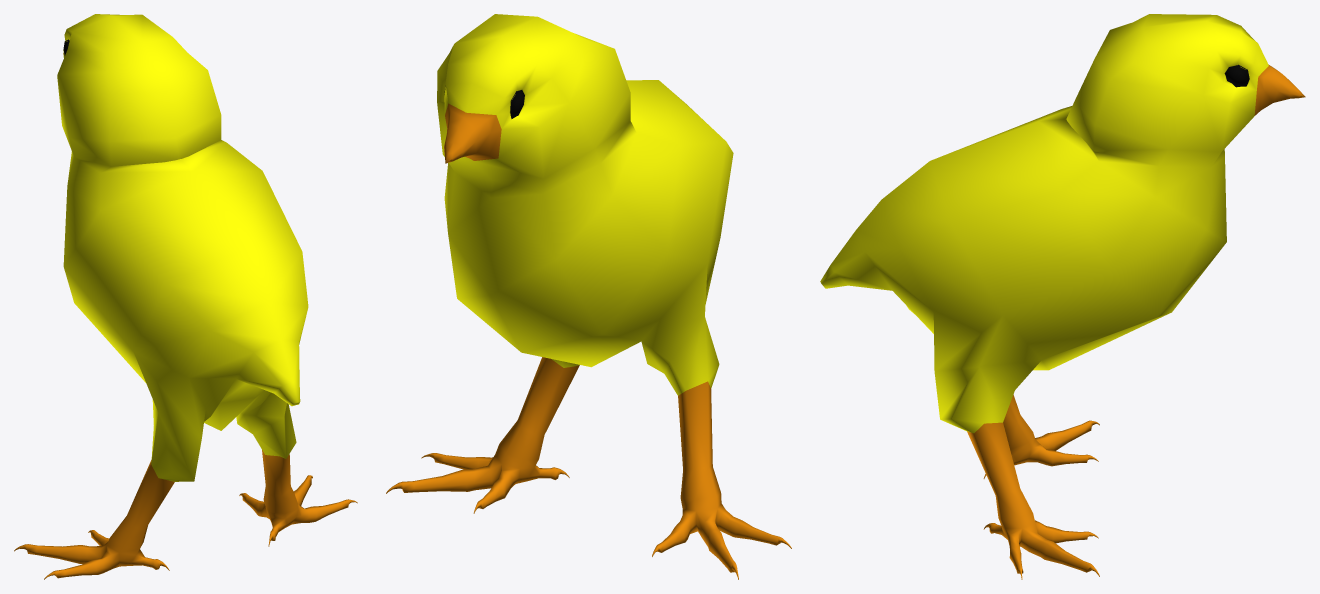
The model's file is little_lowpoly_chick_01.fbx.
3 views of the same model, side by side, from view 1: azimuth 30°, elevation 25°; view 2: azimuth 150°, elevation 25°; view 3: azimuth 270°, elevation 25° (orthographic). The views are drawn at different scales.
Visible parts, largest first — view 1: Chick; view 2: Chick; view 3: Chick.
Boxes of the visible parts, bbox=[...] form: Chick: bbox=[14, 14, 357, 579]; Chick: bbox=[386, 14, 791, 579]; Chick: bbox=[820, 14, 1305, 579].
Size of the model in its own units: 67.81 by 95.97 by 87.39.
